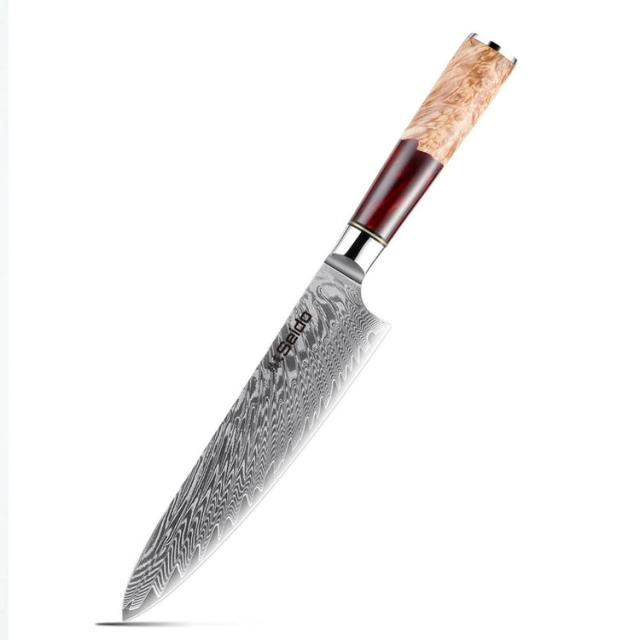Knife: (120, 31, 517, 620)
